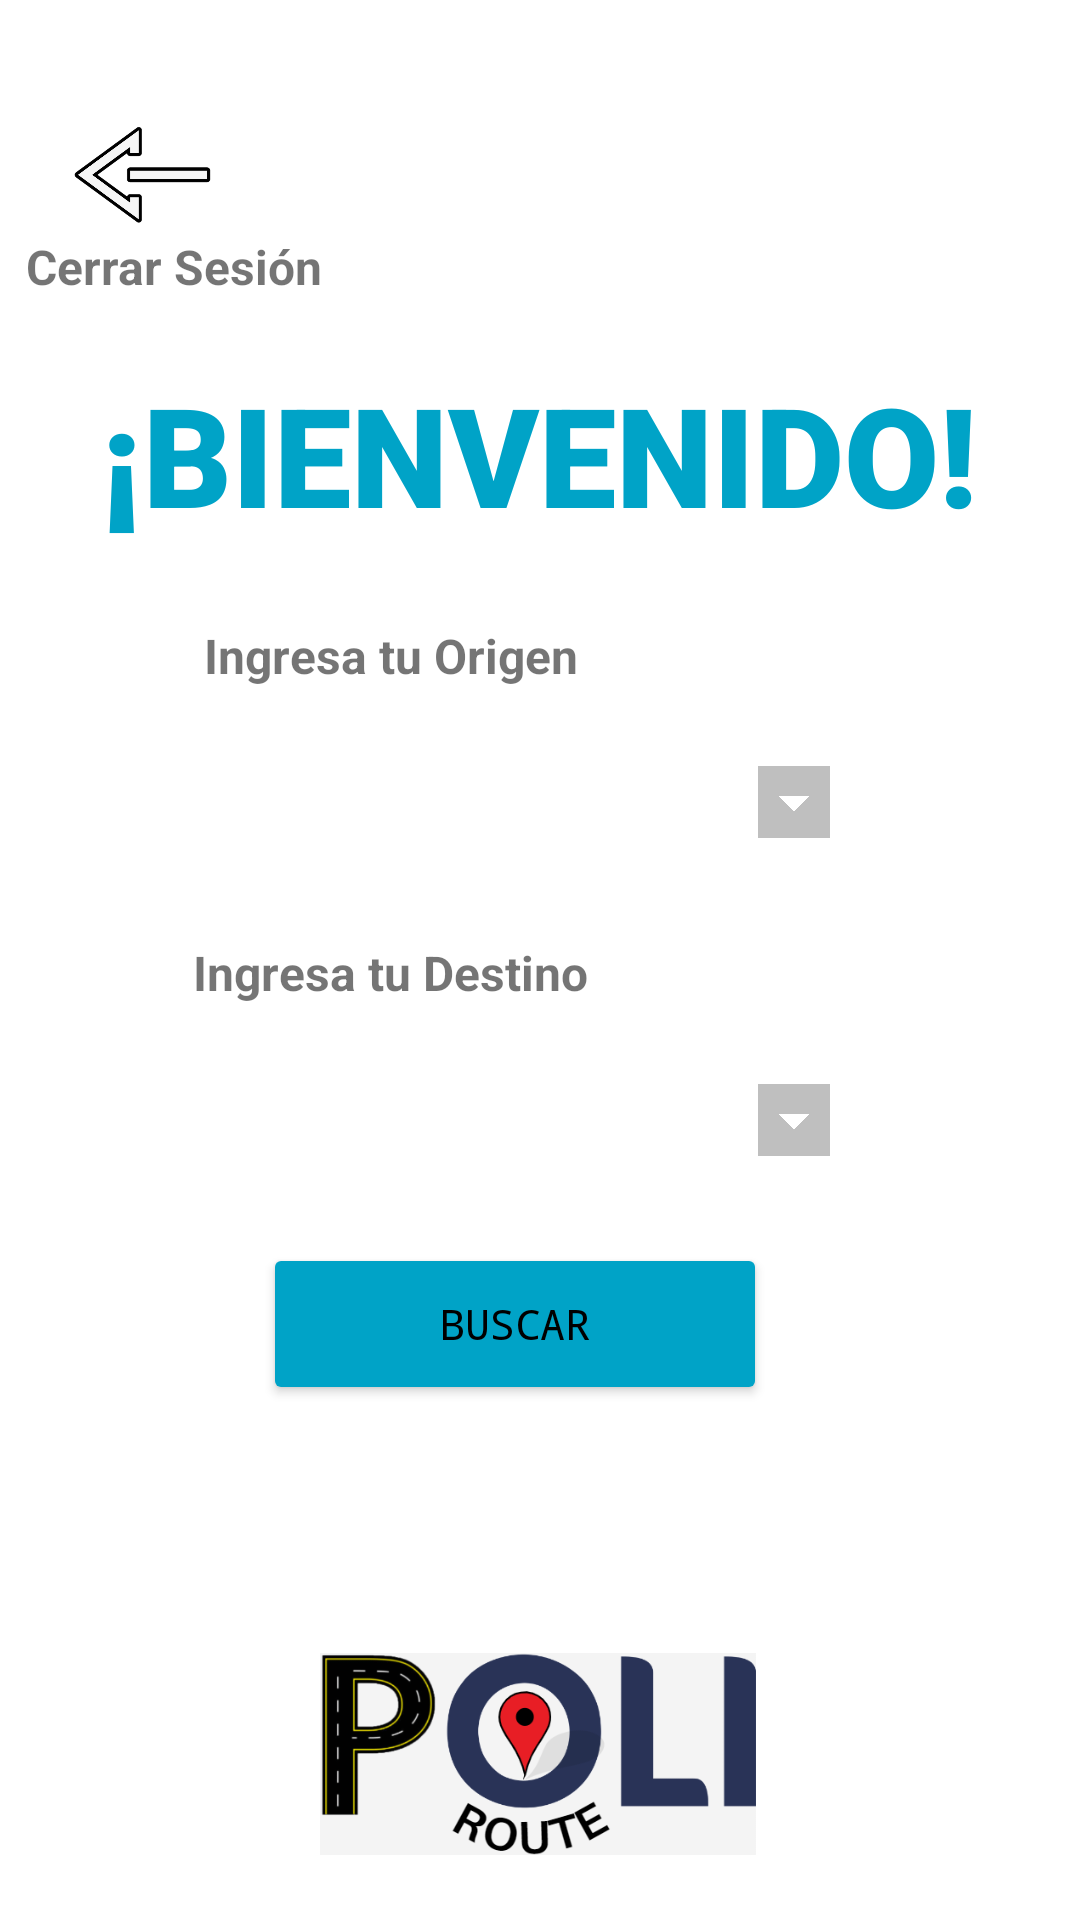

Icons on this 1080px x 1920px Android screen, each with its box as detection(x1, y1, x2, y2):
retroceso: detection(74, 127, 211, 223)
